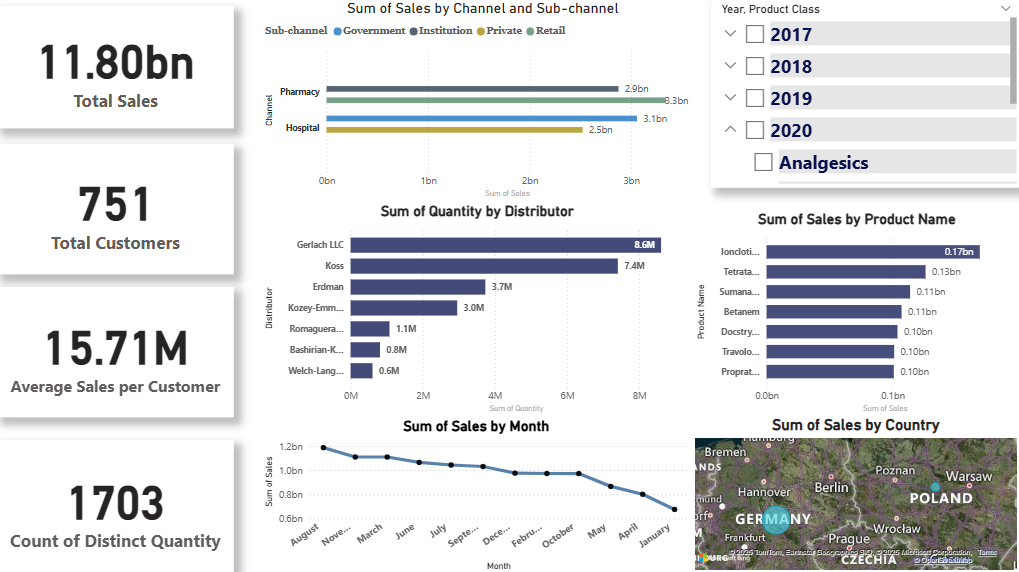

What the dashboard file says about the page in this screenshot:
{"tool":"powerbi","page":{"name":"PharmaData","canvas":[1280,720],"ordinal":0},"visuals":[{"type":"map","fields":{"Category":["DataSet.Country"],"Size":["DataSet.Sales"]},"box":[867.7,521.6,412.3,197.1],"z":0},{"type":"lineChart","fields":{"Y":["DataSet.Sales"],"Category":["DataSet.Month"]},"box":[329.9,522.1,538.3,196.8],"z":1000},{"type":"clusteredBarChart","fields":{"Category":["DataSet.Product Name"],"Y":["DataSet.Sales"]},"box":[870.5,263.9,409.8,258.1],"z":2000},{"type":"barChart","fields":{"Y":["DataSet.Quantity"],"Category":["DataSet.Distributor"]},"box":[329.9,253.5,540.6,268.6],"z":3000},{"type":"clusteredBarChart","fields":{"Series":["DataSet.Sub-channel"],"Category":["DataSet.Channel"],"Y":["DataSet.Sales"]},"box":[329.9,0,554.5,253.5],"z":4000},{"type":"slicer","fields":{"Values":["DataSet.Year","DataSet.Product Class"]},"box":[892.5,0,387.5,236.8],"z":5000},{"type":"card","fields":{"Values":["DataSet.Sales"]},"box":[0,9.3,296.3,152.8],"z":6000},{"type":"card","fields":{"Values":["DataSet.Quantity"]},"box":[0,551,296.3,169],"z":7000},{"type":"card","fields":{"Values":["DataSet.Customer Name"]},"box":[0,181.7,296.3,163.2],"z":8000},{"type":"card","fields":{"Values":["DataSet.Average Sales per Customer"]},"box":[0,360,296.3,163.2],"z":9000}]}

Visuals, with their boxes in screenshot pixels (x1, y1, x2, y2), scaled from the page's 1280x720 canvas onto the 1019x572 screenshot:
map - DataSet.Country x DataSet.Sales: {"x1": 691, "y1": 414, "x2": 1018, "y2": 571}
lineChart - DataSet.Sales x DataSet.Month: {"x1": 263, "y1": 415, "x2": 691, "y2": 571}
clusteredBarChart - DataSet.Product Name x DataSet.Sales: {"x1": 693, "y1": 210, "x2": 1018, "y2": 415}
barChart - DataSet.Quantity x DataSet.Distributor: {"x1": 263, "y1": 201, "x2": 693, "y2": 415}
clusteredBarChart - DataSet.Sub-channel x DataSet.Channel: {"x1": 263, "y1": 0, "x2": 704, "y2": 201}
slicer - DataSet.Year x DataSet.Product Class: {"x1": 711, "y1": 0, "x2": 1018, "y2": 188}
card - DataSet.Sales: {"x1": 0, "y1": 7, "x2": 236, "y2": 129}
card - DataSet.Quantity: {"x1": 0, "y1": 438, "x2": 236, "y2": 571}
card - DataSet.Customer Name: {"x1": 0, "y1": 144, "x2": 236, "y2": 274}
card - DataSet.Average Sales per Customer: {"x1": 0, "y1": 286, "x2": 236, "y2": 416}
